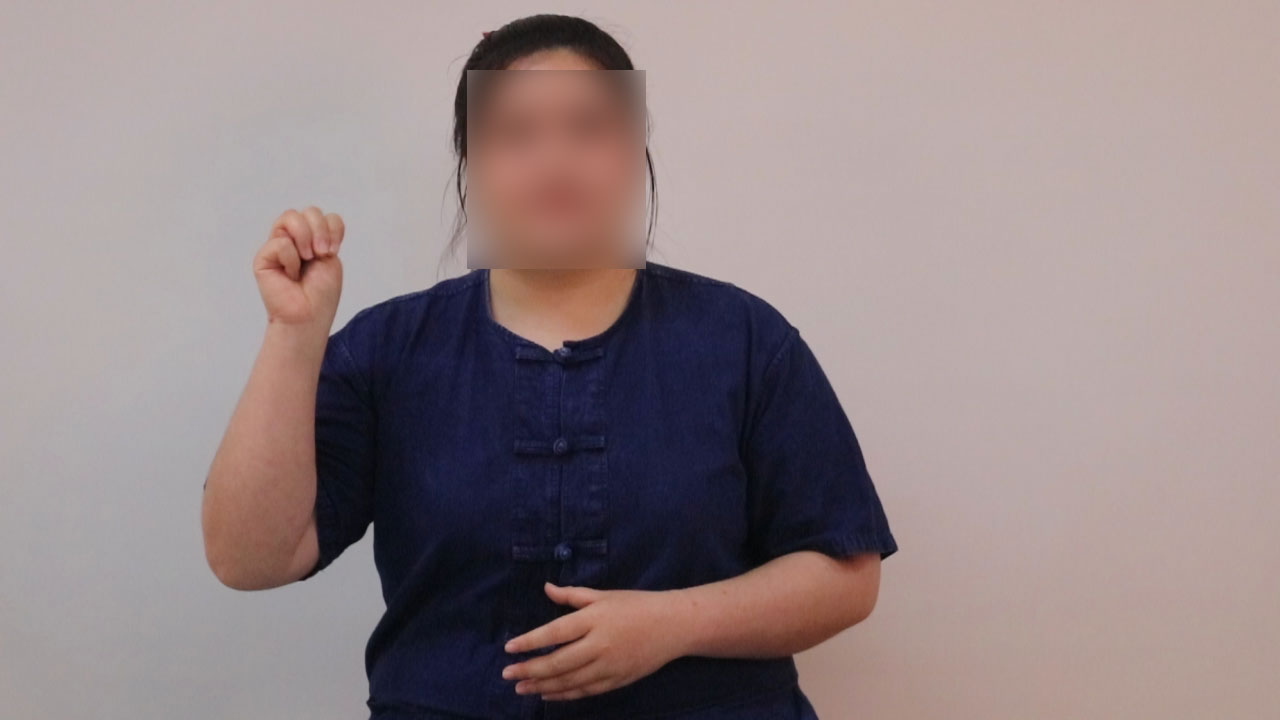mor: (242, 193, 357, 343)
